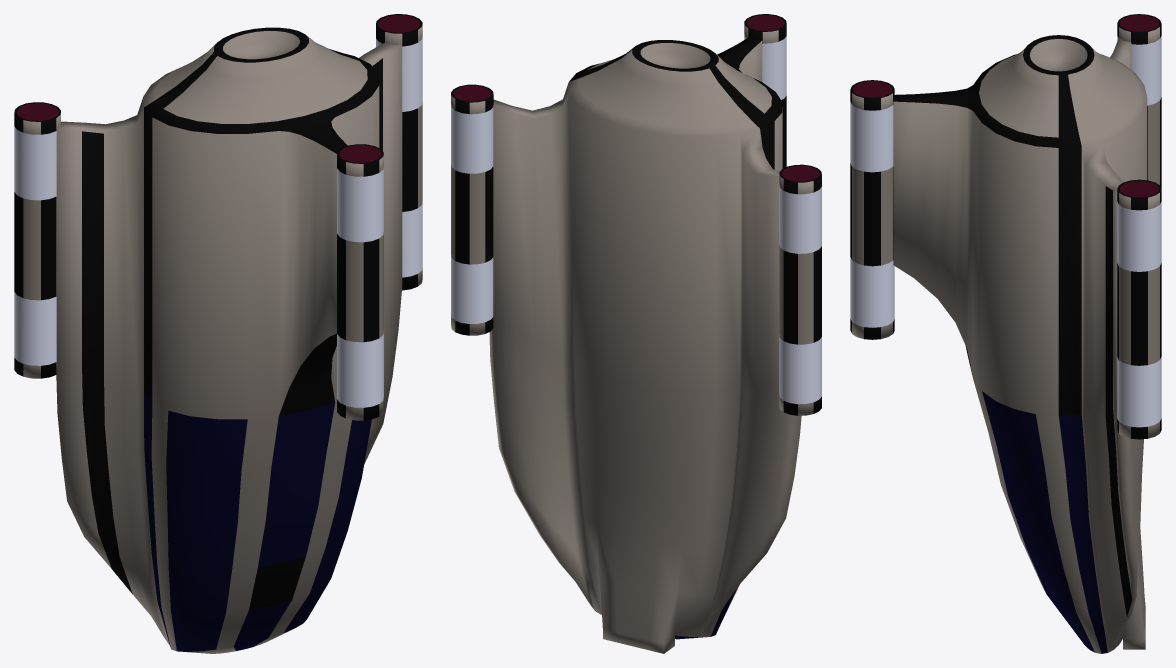
The model's file is spaceship_d0.fbx.
3 renders of one model, left to right at view 1: azimuth 30°, elevation 25°; view 2: azimuth 150°, elevation 25°; view 3: azimuth 270°, elevation 25°, orthographic. The views are drawn at different scales.
Parts seen in each view (by area): view 1: Ship, Engine_Top, Engine_Right, Engine_Left; view 2: Ship, Engine_Left, Engine_Right, Engine_Top; view 3: Ship, Engine_Left, Engine_Top, Engine_Right.
Part boxes in pixels (<box>): Ship: <box>56,27,402,653</box>; Engine_Top: <box>337,144,383,420</box>; Engine_Right: <box>14,102,60,378</box>; Engine_Left: <box>376,14,422,290</box>; Ship: <box>489,37,801,653</box>; Engine_Left: <box>451,84,493,335</box>; Engine_Right: <box>779,164,821,415</box>; Engine_Top: <box>744,14,786,168</box>; Ship: <box>893,35,1147,653</box>; Engine_Left: <box>1117,179,1161,439</box>; Engine_Top: <box>850,80,894,339</box>; Engine_Right: <box>1117,14,1161,188</box>.
Size of the model in its own units: 7.38 by 10.85 by 5.26.
